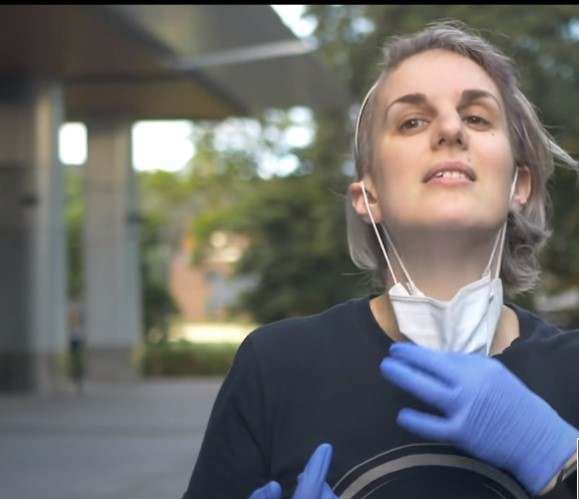face_with_mask: (350, 19, 556, 348)
